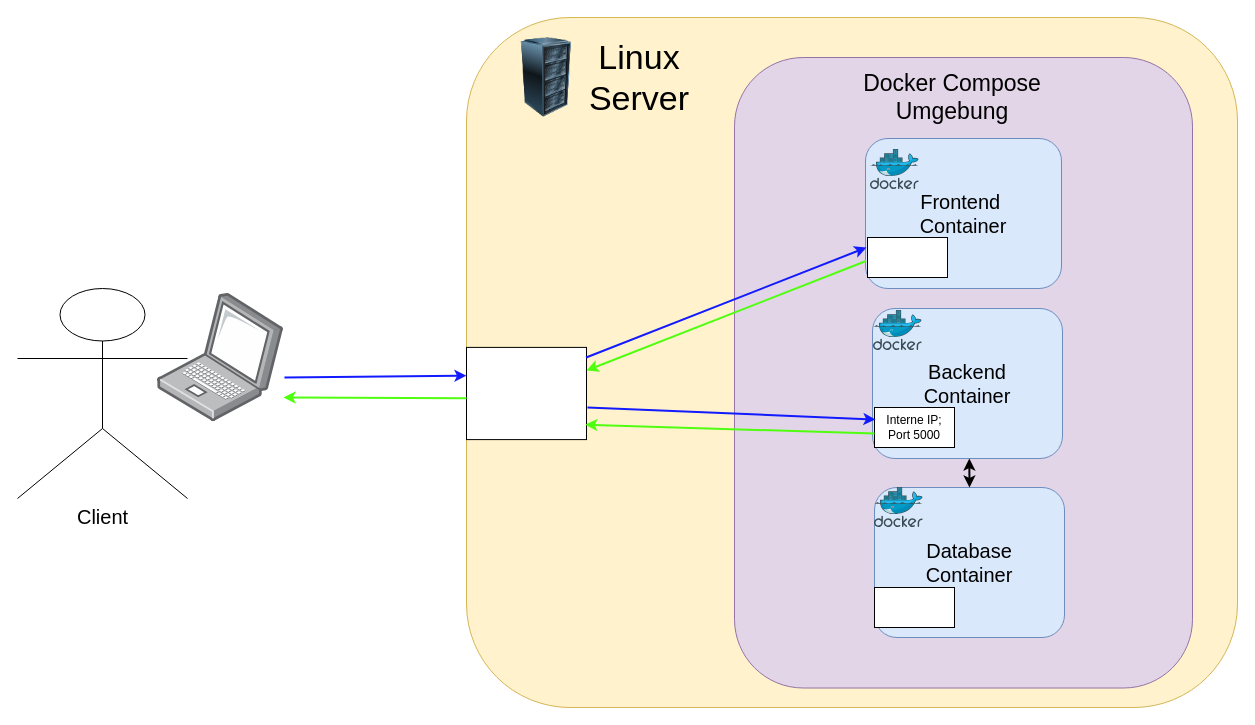
Image size: 1255x725. Some labels were removed from this diagram. Here are the shapes that lost their labels. From the top down, the centre of each, then its label:
At [907,257]: "Interne IP; Port 80".
At [526,393]: "Öffentliche gleichbleibende IP IPv4: 185.233.106.149".
At [914,607]: "Interne IP; Port 5432".
